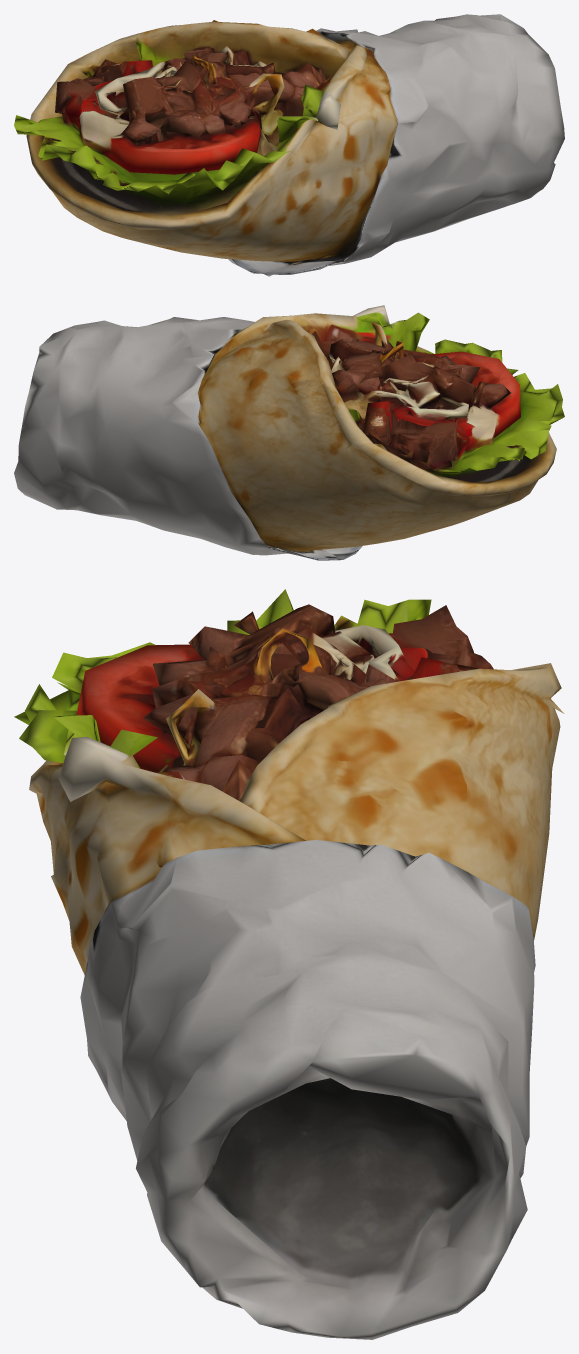
File: durum.glb
3 renders of one model, top to bottom at view 1: azimuth 30°, elevation 25°; view 2: azimuth 150°, elevation 25°; view 3: azimuth 270°, elevation 25°, orthographic. The views are drawn at different scales.
Parts seen in each view (by area): view 1: tripo_node_c20b5fe0-5c26-4ca1-bec3-1bf052938ba3; view 2: tripo_node_c20b5fe0-5c26-4ca1-bec3-1bf052938ba3; view 3: tripo_node_c20b5fe0-5c26-4ca1-bec3-1bf052938ba3.
Boxes of the visible parts, x1,y1,x2,y2 form: tripo_node_c20b5fe0-5c26-4ca1-bec3-1bf052938ba3: [14, 14, 564, 276]; tripo_node_c20b5fe0-5c26-4ca1-bec3-1bf052938ba3: [14, 305, 564, 560]; tripo_node_c20b5fe0-5c26-4ca1-bec3-1bf052938ba3: [14, 589, 564, 1339].
Size of the model in its own units: 0.9823 by 0.4288 by 0.507.
1 material, 1 textured.
